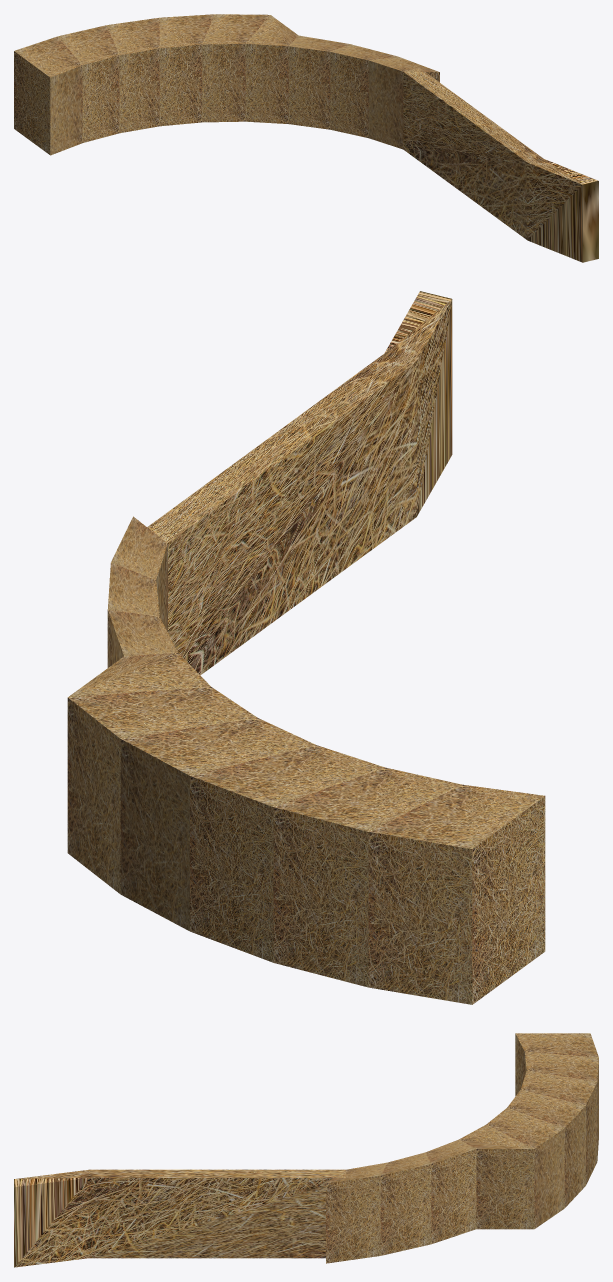
File: corner.obj
3 views of the same model, one above another, from view 1: azimuth 30°, elevation 25°; view 2: azimuth 150°, elevation 25°; view 3: azimuth 270°, elevation 25° (orthographic). The views are drawn at different scales.
Parts seen in each view (by area): view 1: Cube_Cube.003; view 2: Cube_Cube.003; view 3: Cube_Cube.003.
Boxes of the visible parts, x1=… form: Cube_Cube.003: x1=14, y1=14, x2=598, y2=262; Cube_Cube.003: x1=67, y1=291, x2=545, y2=1004; Cube_Cube.003: x1=14, y1=1033, x2=598, y2=1267.
Size of the model in its own units: 2.69 by 0.6546 by 4.32.
